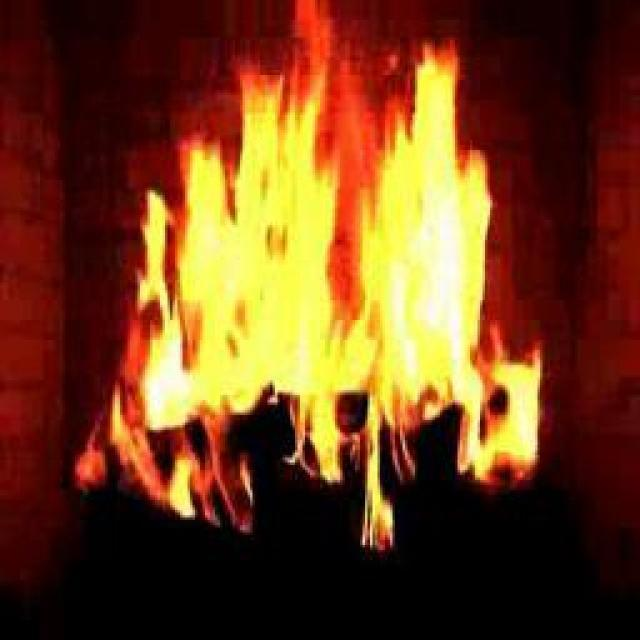Fire: (121, 55, 504, 473)
